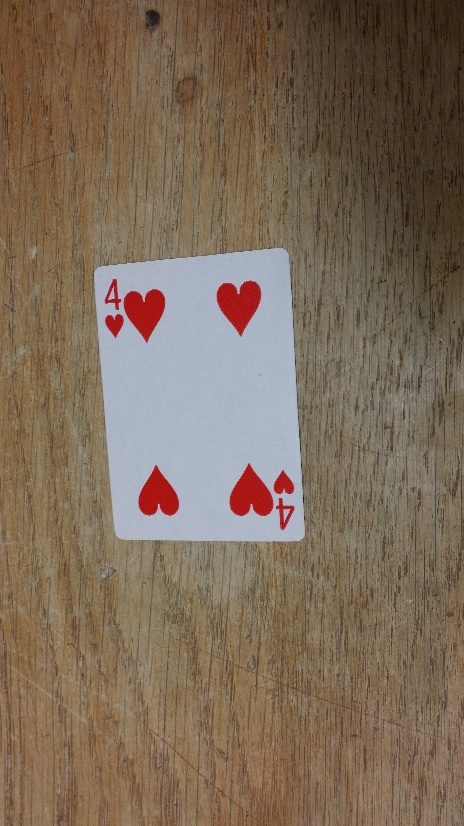H4: (99, 270, 127, 342), (271, 465, 295, 529)
